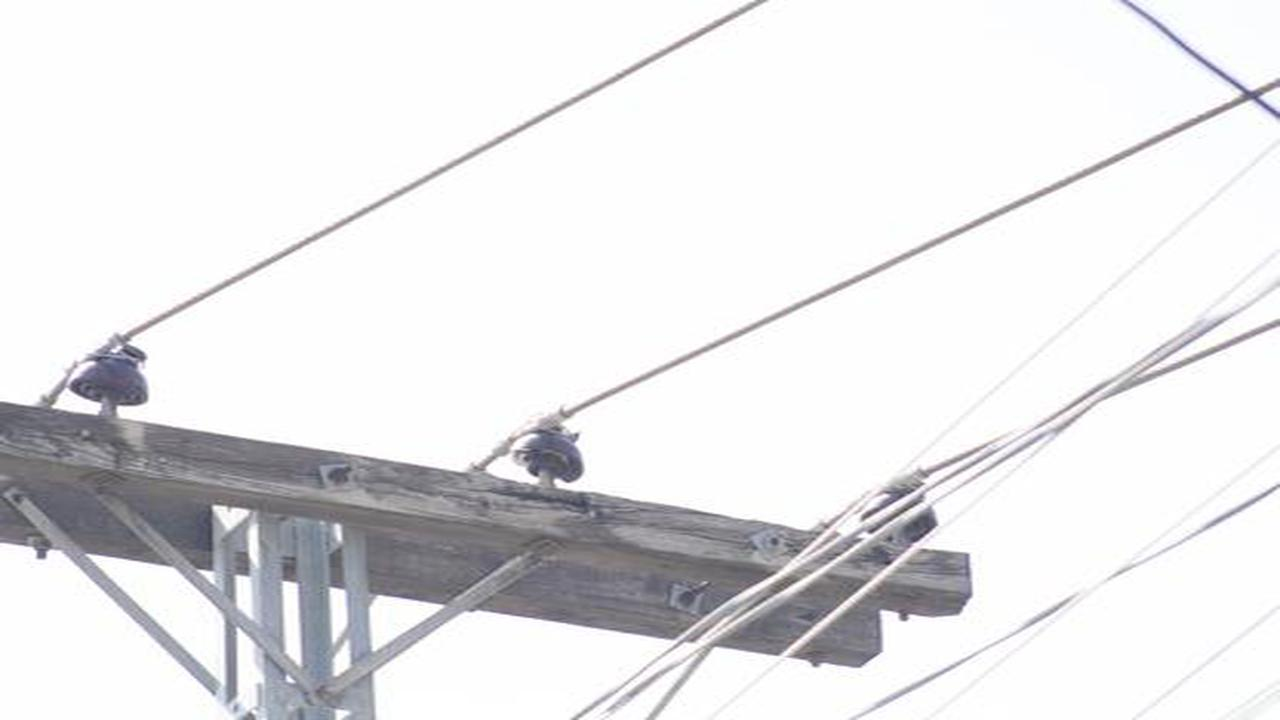insulator_pin: (67, 331, 149, 412), (512, 416, 586, 484)
